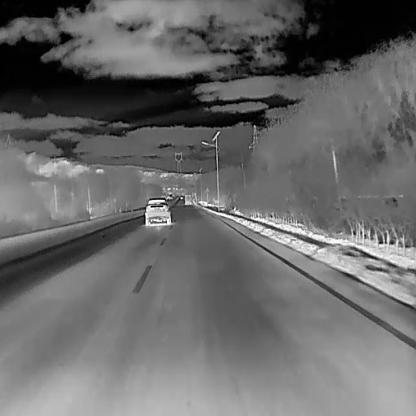bus: (184, 194, 191, 206), (168, 193, 173, 199)
car: (144, 196, 172, 226), (179, 194, 183, 199)
